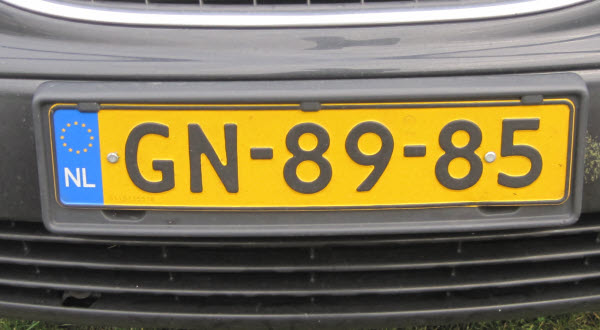license_plate: (49, 96, 573, 210)
